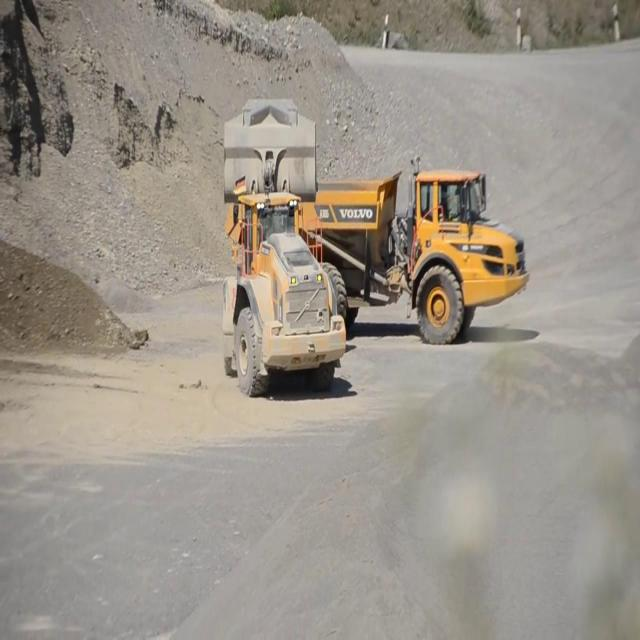Dump Truck: (293, 153, 532, 347)
Loader: (219, 98, 348, 402)
